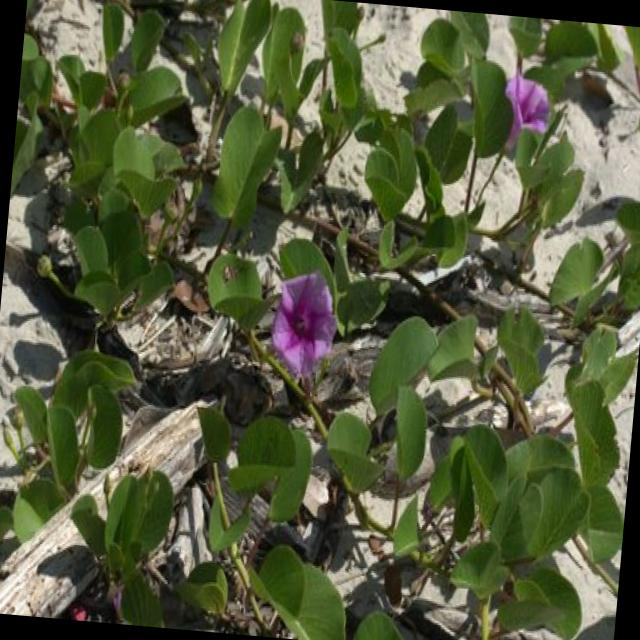ipomoea: (262, 263, 344, 386), (494, 66, 556, 160)
